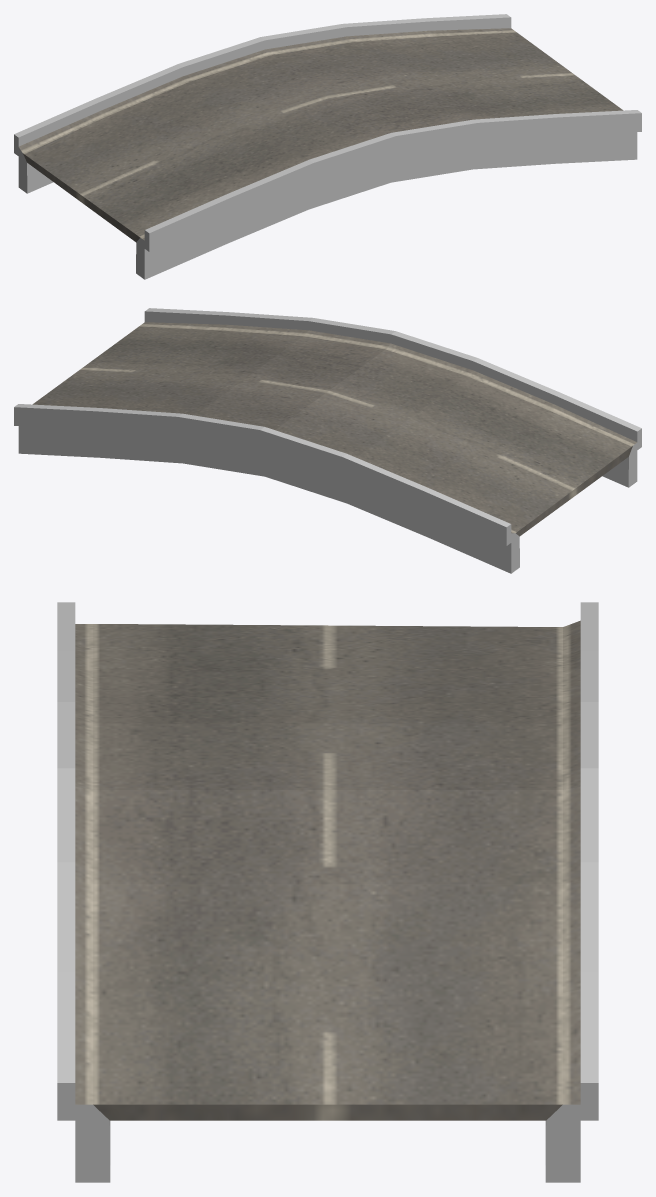
Rendered from Urban_Road4SmallBridgeNoSides_Model.fbx.
3 renders of one model, top to bottom at view 1: azimuth 30°, elevation 25°; view 2: azimuth 150°, elevation 25°; view 3: azimuth 270°, elevation 25°, orthographic. The views are drawn at different scales.
Visible parts, largest first — view 1: Urban_Road4SmallBridgeNoSides_Mesh; view 2: Urban_Road4SmallBridgeNoSides_Mesh; view 3: Urban_Road4SmallBridgeNoSides_Mesh.
Boxes of the visible parts, left/top/right/bottom form: Urban_Road4SmallBridgeNoSides_Mesh: left=14, top=14, right=641, bottom=279; Urban_Road4SmallBridgeNoSides_Mesh: left=14, top=308, right=641, bottom=573; Urban_Road4SmallBridgeNoSides_Mesh: left=57, top=602, right=598, bottom=1182.
Bounding box in the file's own units: 36 × 6.07 × 17.13.
